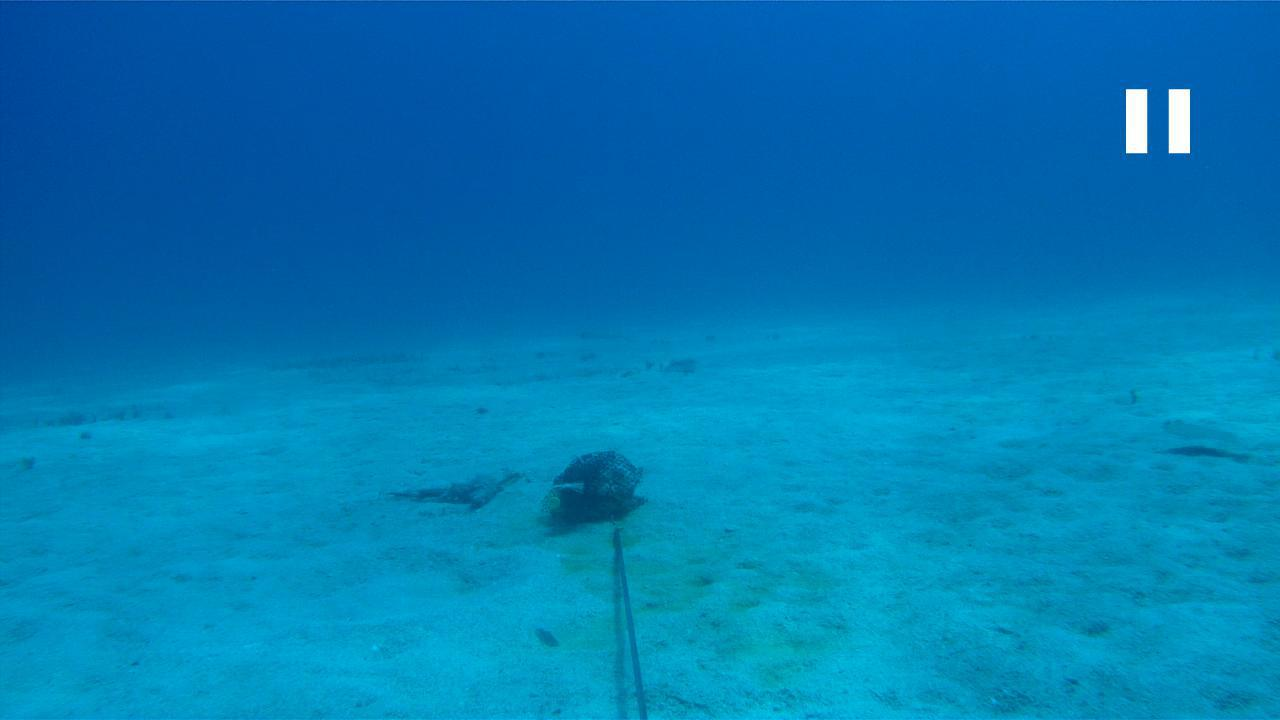bothus: (1154, 415, 1251, 460)
